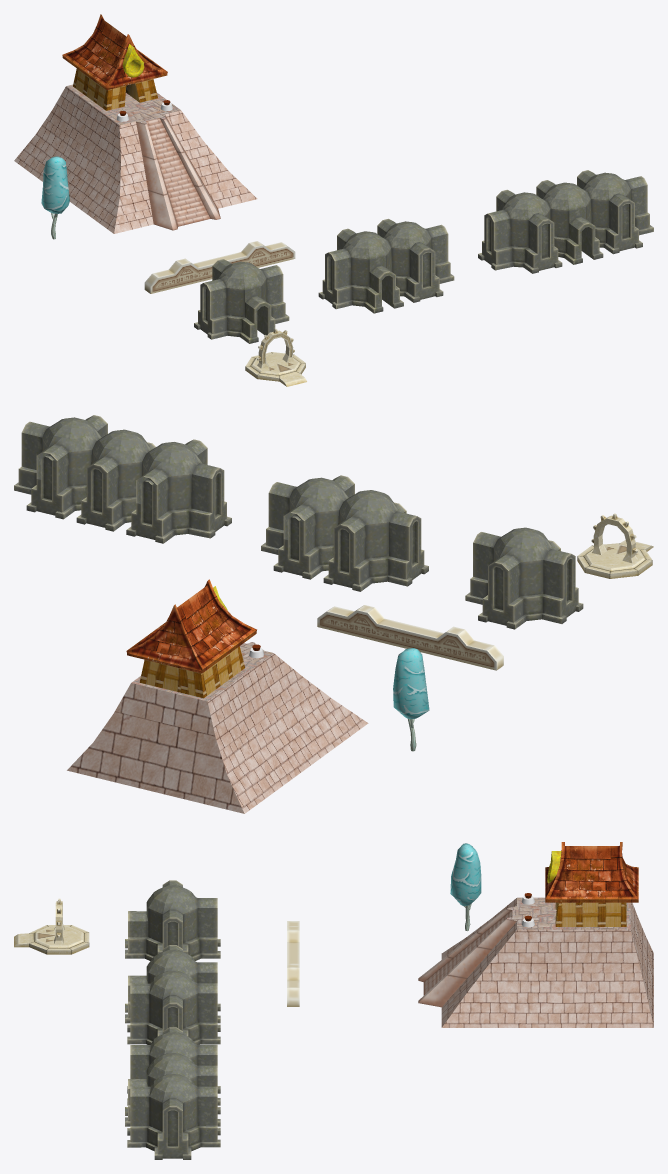
Rendered from mundo1_exterior.fbx.
3 views of the same model, one above another, from view 1: azimuth 30°, elevation 25°; view 2: azimuth 150°, elevation 25°; view 3: azimuth 270°, elevation 25° (orthographic). The views are drawn at different scales.
Visible parts, largest first — view 1: m1_templo, m1_casa_C, m1_casa_B, m1_casa_A, m1_valla, m1_portal, m1_arbol_Esp; view 2: m1_templo, m1_casa_C, m1_casa_B, m1_casa_A, m1_valla, m1_portal, m1_arbol_Esp; view 3: m1_templo, m1_casa_C, m1_casa_B, m1_casa_A, m1_portal, m1_arbol_Esp, m1_valla.
Part boxes in pixels (left/top/right/bottom): m1_templo: left=14, top=14, right=257, bottom=233; m1_casa_C: left=478, top=170, right=653, bottom=273; m1_casa_B: left=318, top=218, right=454, bottom=313; m1_casa_A: left=194, top=259, right=289, bottom=343; m1_valla: left=144, top=241, right=295, bottom=293; m1_portal: left=245, top=329, right=306, bottom=386; m1_arbol_Esp: left=41, top=156, right=69, bottom=239; m1_templo: left=67, top=579, right=368, bottom=813; m1_casa_C: left=14, top=415, right=231, bottom=543; m1_casa_B: left=261, top=475, right=428, bottom=591; m1_casa_A: left=465, top=527, right=583, bottom=629; m1_valla: left=317, top=605, right=503, bottom=670; m1_portal: left=577, top=513, right=653, bottom=578; m1_arbol_Esp: left=393, top=648, right=429, bottom=751; m1_templo: left=418, top=842, right=653, bottom=1027; m1_casa_C: left=125, top=1027, right=220, bottom=1159; m1_casa_B: left=125, top=945, right=220, bottom=1044; m1_casa_A: left=125, top=880, right=220, bottom=960; m1_portal: left=14, top=898, right=89, bottom=954; m1_arbol_Esp: left=450, top=843, right=481, bottom=931; m1_valla: left=287, top=921, right=299, bottom=1006.
Size of the model in its own units: 29992 by 8759 by 33783.
